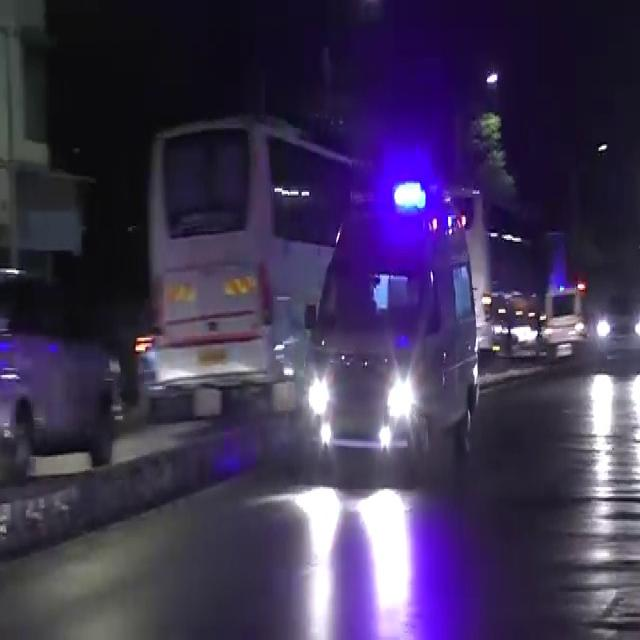ambulance: (315, 163, 472, 477)
